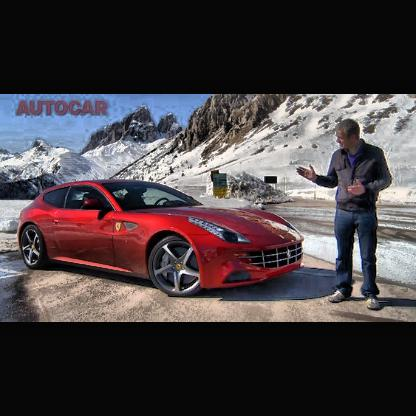Ferrari FF Coupe 2012: (20, 179, 307, 297)
